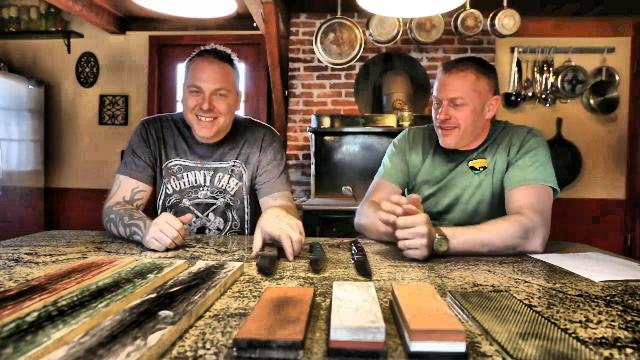knife: (250, 226, 306, 278)
